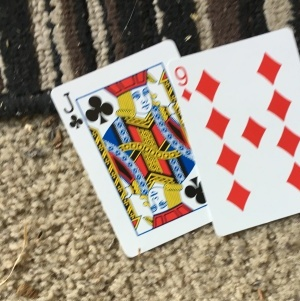card: (48, 39, 176, 262)
